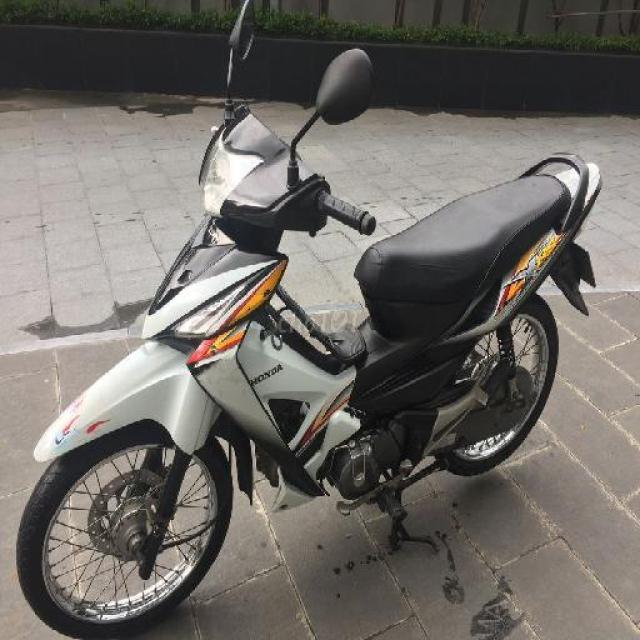All: (16, 101, 607, 634)
Head: (198, 106, 378, 240)
Tail: (517, 144, 602, 228)
